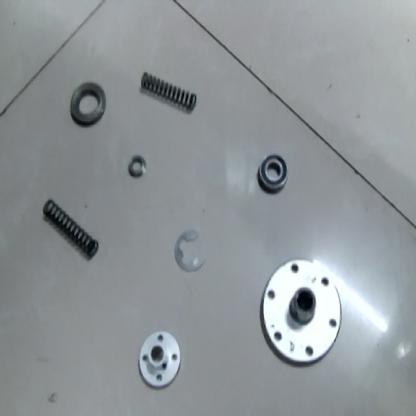FOD: (0, 2, 416, 413), (260, 254, 348, 370), (40, 195, 101, 263), (134, 327, 184, 393), (138, 70, 201, 114), (68, 82, 108, 131), (172, 228, 208, 276), (256, 152, 291, 196), (125, 153, 149, 182)
